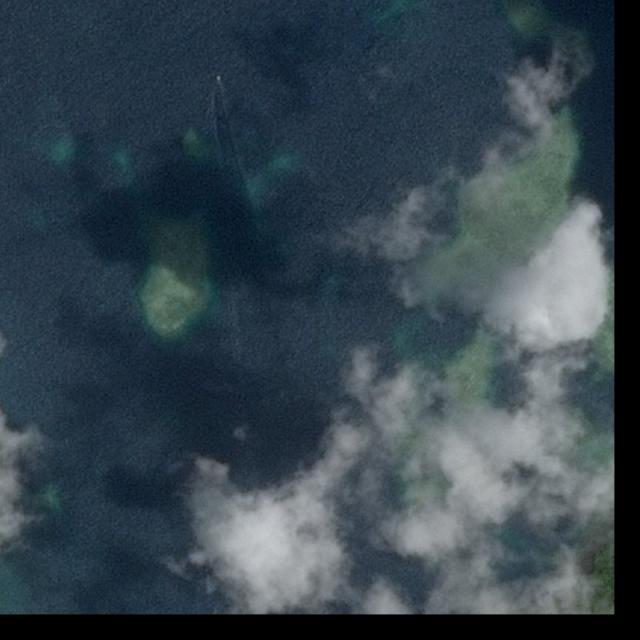ship: (215, 74, 222, 82)
